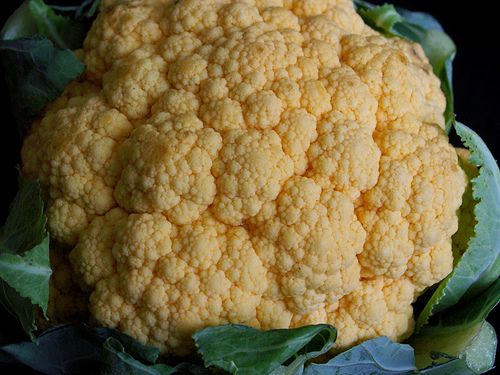cauliflower: (19, 0, 466, 353)
